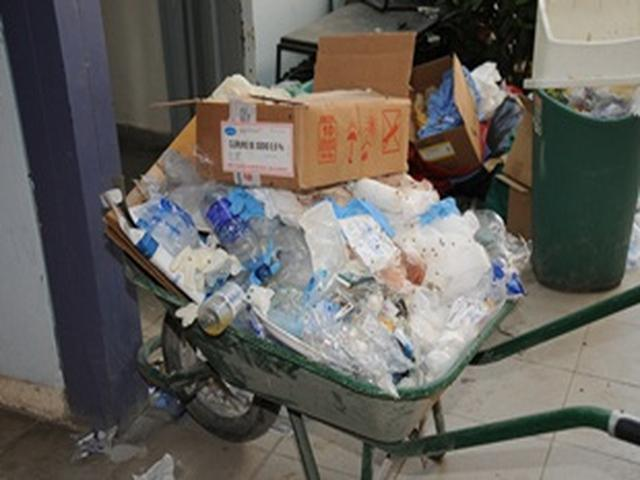garbage: (152, 188, 464, 305)
